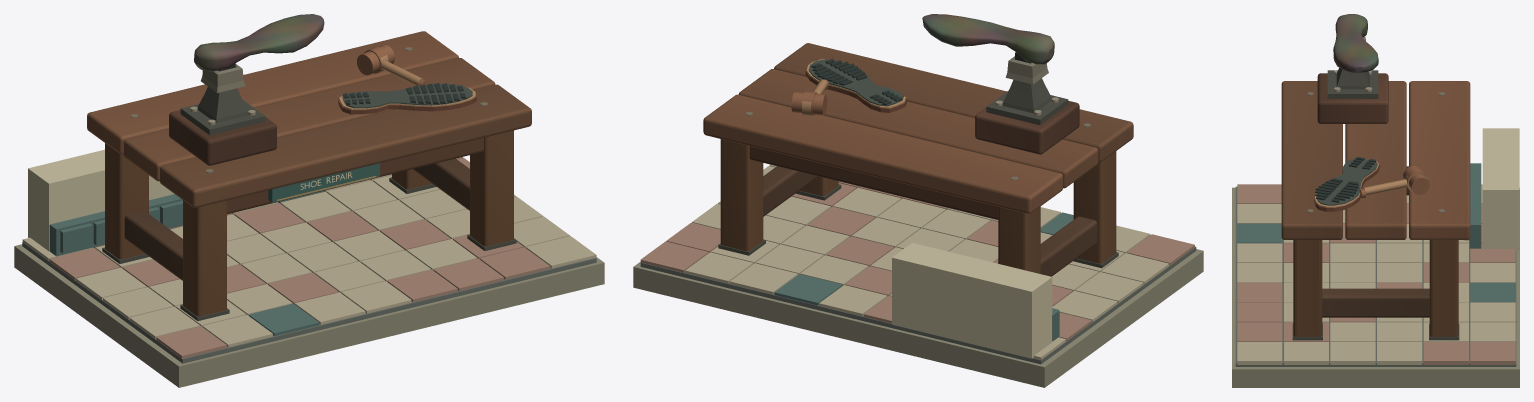
The model's file is five-foot-way-cobbler-repair-stand.glb.
3 renders of one model, left to right at view 1: azimuth 30°, elevation 25°; view 2: azimuth 150°, elevation 25°; view 3: azimuth 270°, elevation 25°, orthographic. The views are drawn at different scales.
Visible parts, largest first — view 1: Independent worn flat workbench plank, Shallow cropped pavement structural base, Independent worn flat workbench plank.002, Independent worn flat workbench plank.001, Short plaster edge indicating shophouse frontage only, Splayed-look aged timber workbench leg, Splayed-look aged timber workbench leg.002, Sculpted closed asymmetric toe heel cast shoe last, Splayed-look aged timber workbench leg.001, Sanded hardwood last mount foot block, Flat continuous underlying old mortar bed, Independently joined side timber spreader (+50 smaller); view 2: Independent worn flat workbench plank.002, Shallow cropped pavement structural base, Short plaster edge indicating shophouse frontage only, Independent worn flat workbench plank.001, Independent worn flat workbench plank, Splayed-look aged timber workbench leg.003, Long wooden apron below worn bench surface.001, Sculpted closed asymmetric toe heel cast shoe last, Splayed-look aged timber workbench leg, Sanded hardwood last mount foot block, Flat continuous underlying old mortar bed, Splayed-look aged timber workbench leg.001 (+36 smaller); view 3: Independent worn flat workbench plank.002, Independent worn flat workbench plank, Shallow cropped pavement structural base, Independent worn flat workbench plank.001, Short plaster edge indicating shophouse frontage only, Independently joined side timber spreader.001, Splayed-look aged timber workbench leg.002, Splayed-look aged timber workbench leg.003, Flat continuous underlying old mortar bed, Sanded hardwood last mount foot block, Sculpted closed asymmetric toe heel cast shoe last, Separately shaded old paving tile.008 (+44 smaller).
Boxes of the visible parts, x1,y1,x2,y2 form: Independent worn flat workbench plank: (160,84,531,207); Shallow cropped pavement structural base: (14,244,604,387); Independent worn flat workbench plank.002: (87,31,458,154); Independent worn flat workbench plank.001: (123,58,495,181); Short plaster edge indicating shophouse frontage only: (28,149,174,251); Splayed-look aged timber workbench leg: (183,200,226,316); Splayed-look aged timber workbench leg.002: (470,130,513,246); Sculpted closed asymmetric toe heel cast shoe last: (194,14,324,71); Splayed-look aged timber workbench leg.001: (105,143,148,259); Sanded hardwood last mount foot block: (169,110,276,165); Flat continuous underlying old mortar bed: (22,242,596,363); Independently joined side timber spreader: (124,210,182,280); Independent worn flat workbench plank.002: (703,94,1062,213); Shallow cropped pavement structural base: (633,249,1203,387); Short plaster edge indicating shophouse frontage only: (892,243,1052,358); Independent worn flat workbench plank.001: (738,69,1098,188); Independent worn flat workbench plank: (774,43,1133,162); Splayed-look aged timber workbench leg.003: (720,139,763,251); Long wooden apron below worn bench surface.001: (749,146,998,219); Sculpted closed asymmetric toe heel cast shoe last: (922,14,1054,64); Splayed-look aged timber workbench leg: (1073,151,1116,263); Sanded hardwood last mount foot block: (975,101,1079,154); Flat continuous underlying old mortar bed: (640,246,1196,364); Splayed-look aged timber workbench leg.001: (998,206,1040,273); Independent worn flat workbench plank.002: (1409,81,1470,239); Independent worn flat workbench plank: (1281,81,1342,239); Shallow cropped pavement structural base: (1232,187,1519,387); Independent worn flat workbench plank.001: (1345,81,1406,239); Short plaster edge indicating shophouse frontage only: (1482,128,1519,250); Independently joined side timber spreader.001: (1322,288,1429,317); Splayed-look aged timber workbench leg.002: (1293,240,1322,336); Splayed-look aged timber workbench leg.003: (1429,240,1458,336); Flat continuous underlying old mortar bed: (1235,186,1516,366); Sanded hardwood last mount foot block: (1317,73,1388,123); Sculpted closed asymmetric toe heel cast shoe last: (1333,14,1378,72); Separately shaded old paving tile.008: (1237,342,1282,364).
Size of the model in its own units: 0.958 by 0.574 by 0.642.
